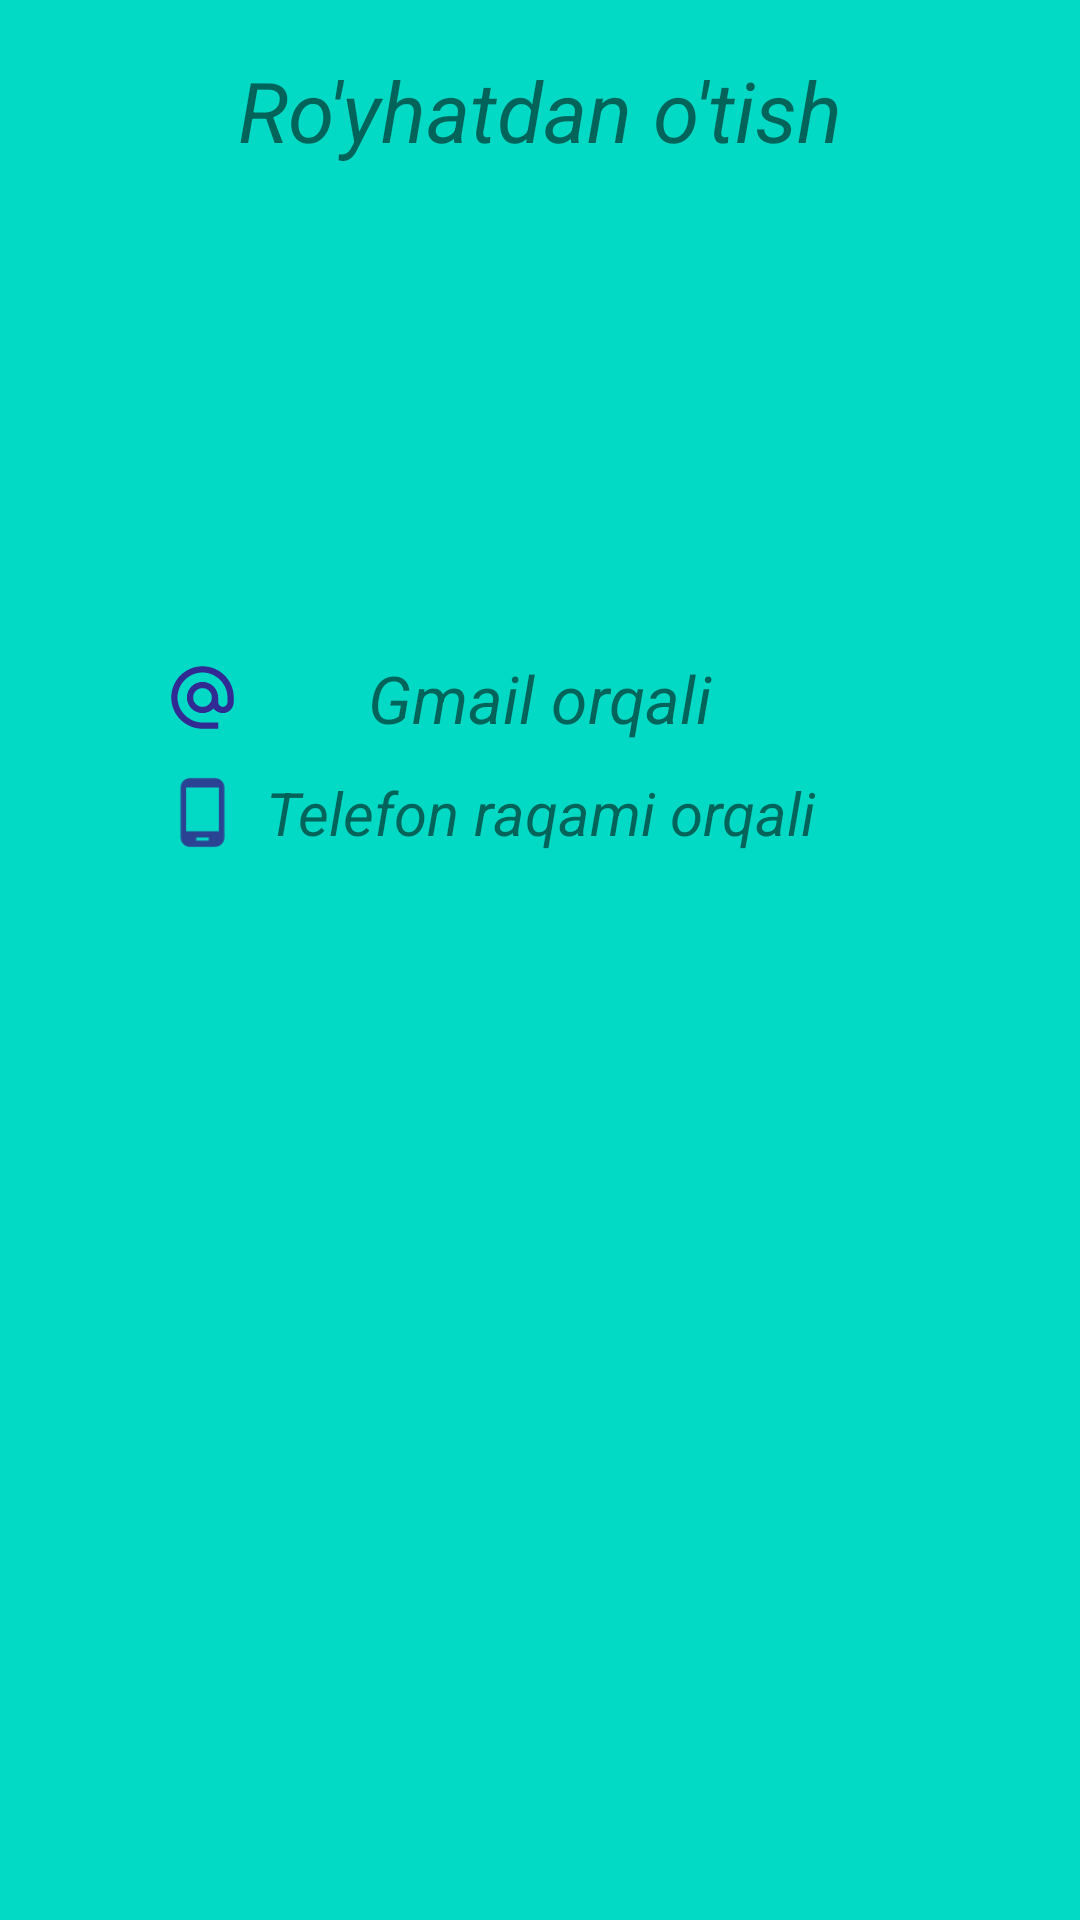

Icons on this 1080×1920 Android screen, each with its box as {"x1": x1, "y1": y1, "x2": x2, "y2": y2}:
alternate email: {"x1": 171, "y1": 666, "x2": 234, "y2": 729}
phone android: {"x1": 180, "y1": 778, "x2": 225, "y2": 847}
